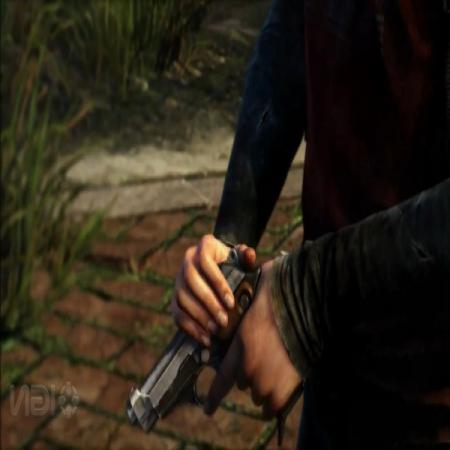Pistol: (125, 231, 334, 437)
